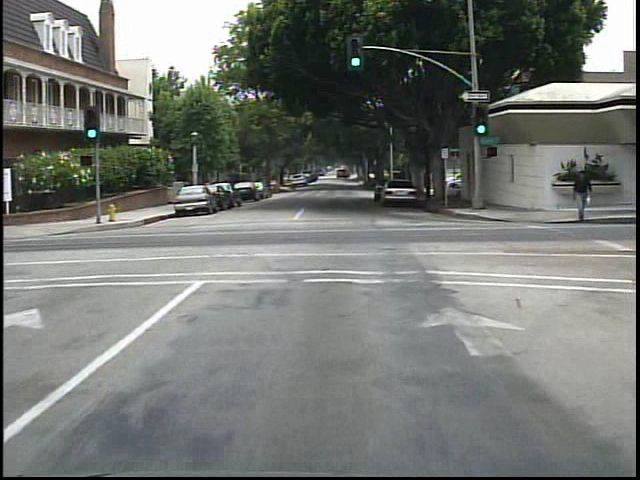person: (564, 165, 595, 223)
